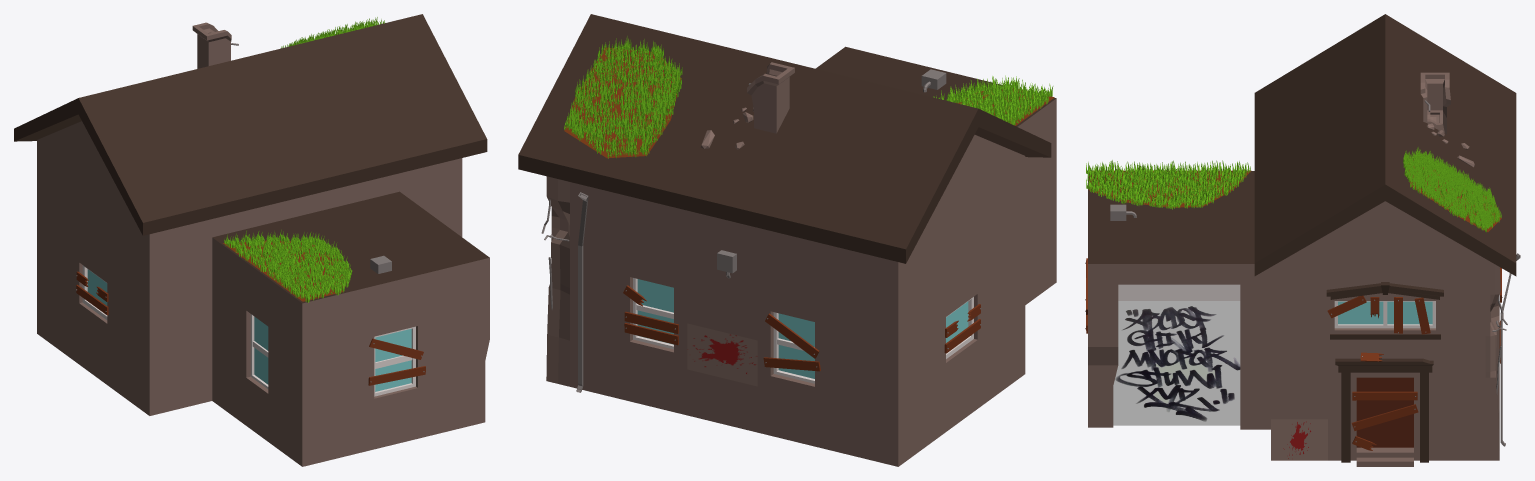
File: House_2.fbx
3 views of the same model, side by side, from view 1: azimuth 30°, elevation 25°; view 2: azimuth 150°, elevation 25°; view 3: azimuth 270°, elevation 25° (orthographic). The views are drawn at different scales.
Visible parts, largest first — view 1: House01_destroyed, Dirt_plan; view 2: House01_destroyed, Dirt_plan.001; view 3: House01_destroyed, Dirt_plan, Dirt_plan.001.
Boxes of the visible parts, left/top/right/bottom form: House01_destroyed: left=14, top=14, right=489, bottom=466; Dirt_plan: left=223, top=240, right=346, bottom=301; House01_destroyed: left=518, top=14, right=1056, bottom=466; Dirt_plan.001: left=564, top=47, right=681, bottom=158; House01_destroyed: left=1085, top=14, right=1520, bottom=466; Dirt_plan: left=1089, top=170, right=1251, bottom=207; Dirt_plan.001: left=1408, top=160, right=1501, bottom=231.
Bounding box in the file's own units: 881 × 720 × 952.
